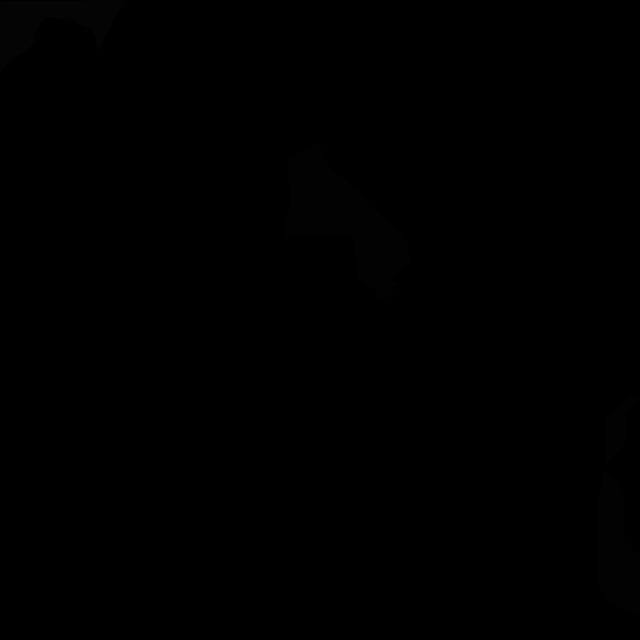cardboard: (283, 143, 413, 300), (596, 468, 640, 617), (605, 394, 640, 465)
soft_plastic: (0, 0, 125, 74)
